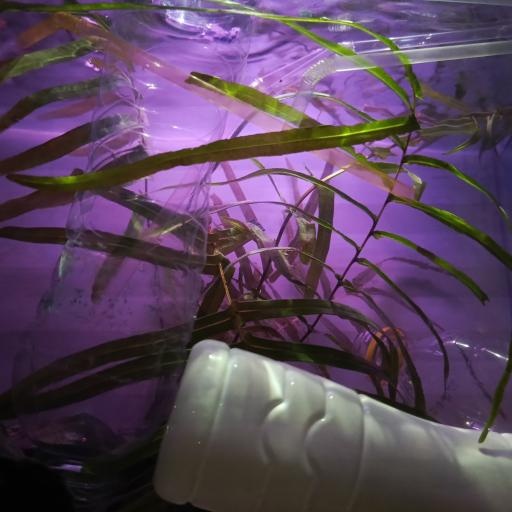plastic_bottle: (5, 1, 208, 497), (163, 333, 512, 510), (349, 320, 512, 420)
plastic_straw: (57, 6, 416, 202), (290, 44, 512, 131)
